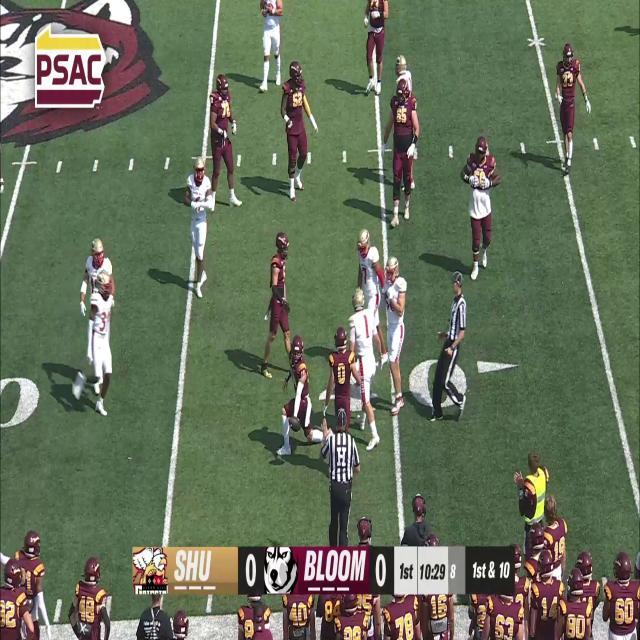football: (288, 416, 302, 432)
